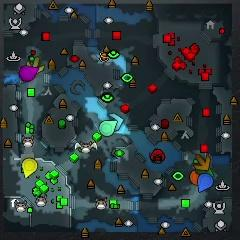p1: (198, 173, 213, 192)
p2: (100, 121, 117, 136)
p3: (20, 66, 40, 82)
p4: (22, 159, 37, 178)
p5: (190, 170, 200, 185)
x2: (27, 57, 44, 74)
x3: (108, 113, 124, 132)
x4: (194, 166, 214, 178)
x5: (195, 154, 210, 170)
